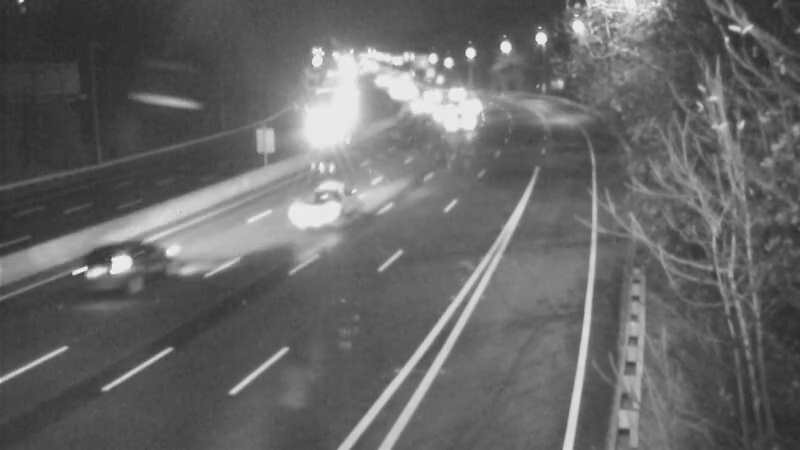vehicle: (278, 172, 358, 252), (53, 231, 133, 311), (428, 62, 478, 112), (399, 66, 449, 116), (444, 80, 494, 130), (399, 80, 449, 130), (421, 83, 471, 133), (440, 94, 490, 144)
